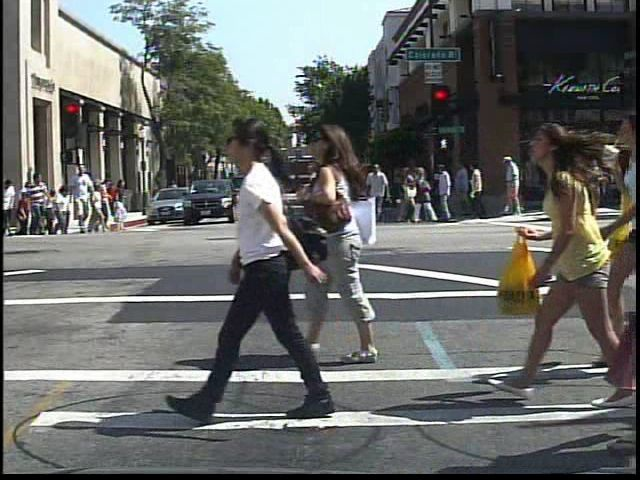person: (205, 107, 333, 426), (521, 102, 625, 403), (298, 119, 385, 364), (67, 161, 94, 235), (23, 171, 49, 238), (499, 151, 525, 218), (2, 173, 22, 238), (106, 175, 126, 214), (165, 174, 183, 211)
